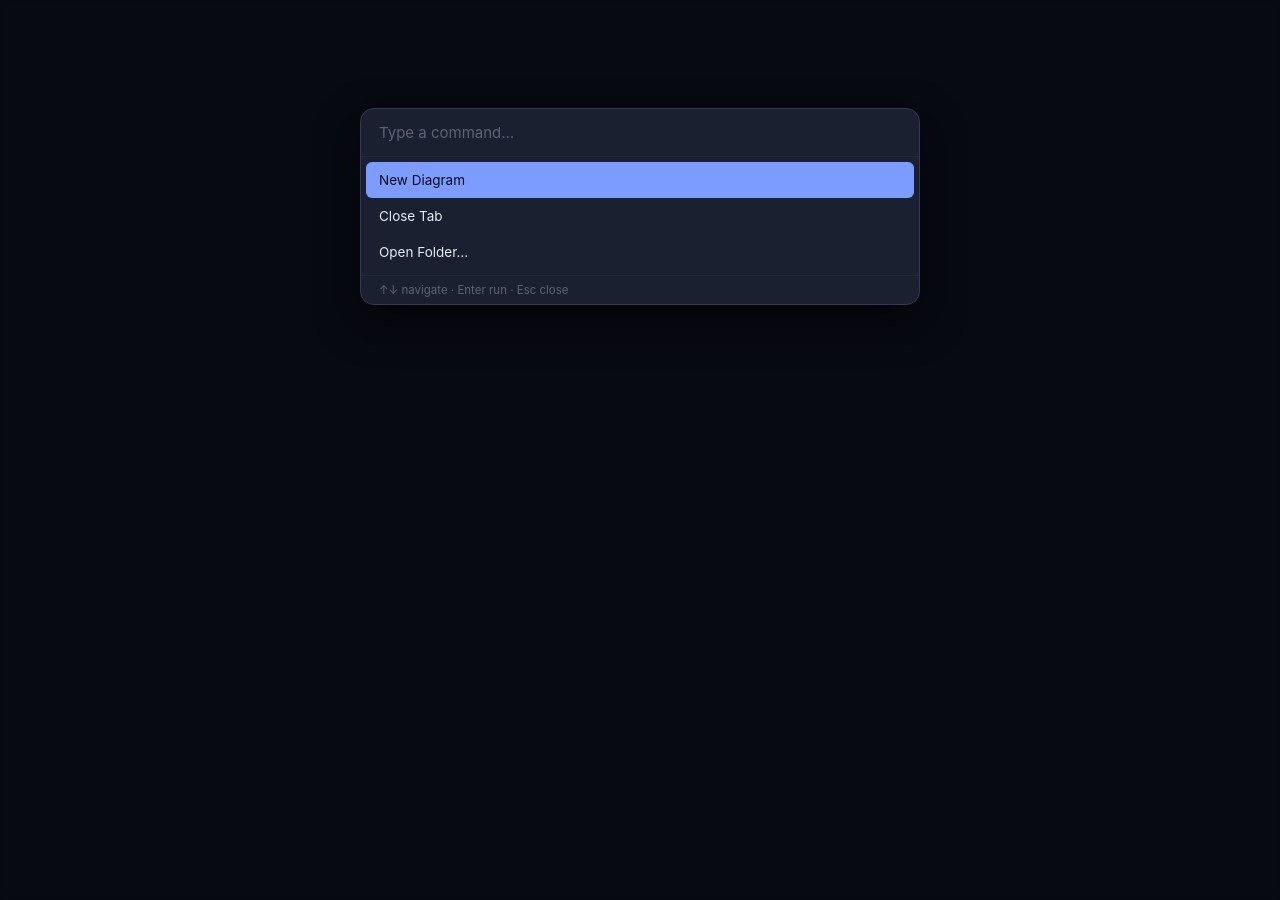
Scenario: CommandPalette › filters commands by the input text
The width and height of the screenshot is (1280, 900).
Step 1. Type "close" into the field with test id "palette-input" → (640, 133), box [361, 109, 919, 157]
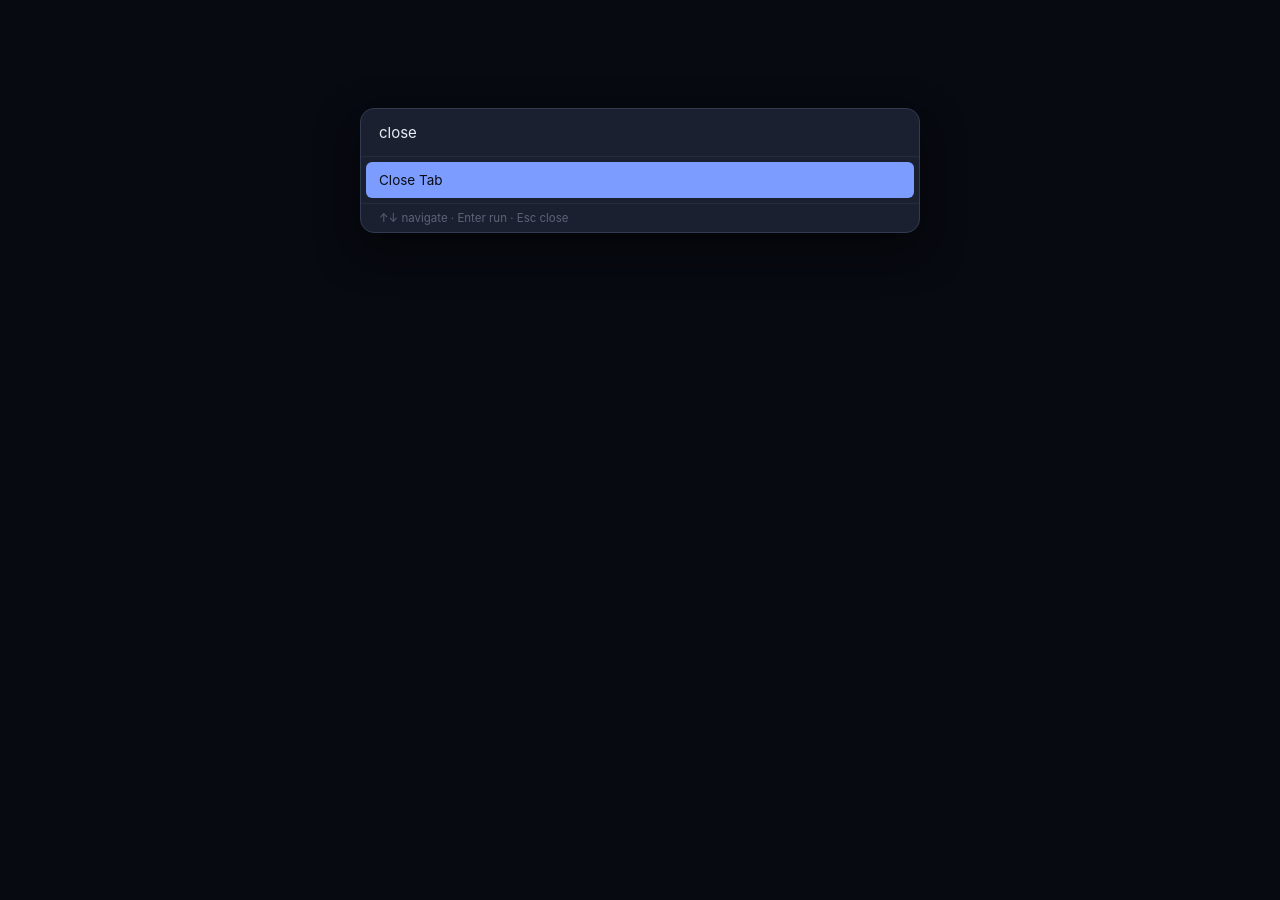
Expected: the number of options with test id "palette-item" is 1, [366, 162, 914, 198]
